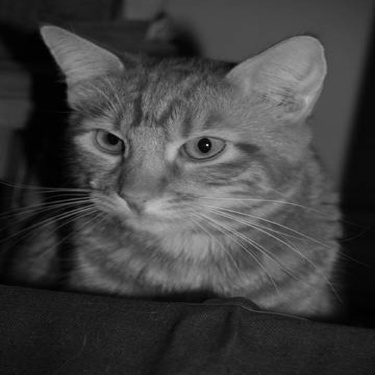cat: (7, 4, 356, 331)
